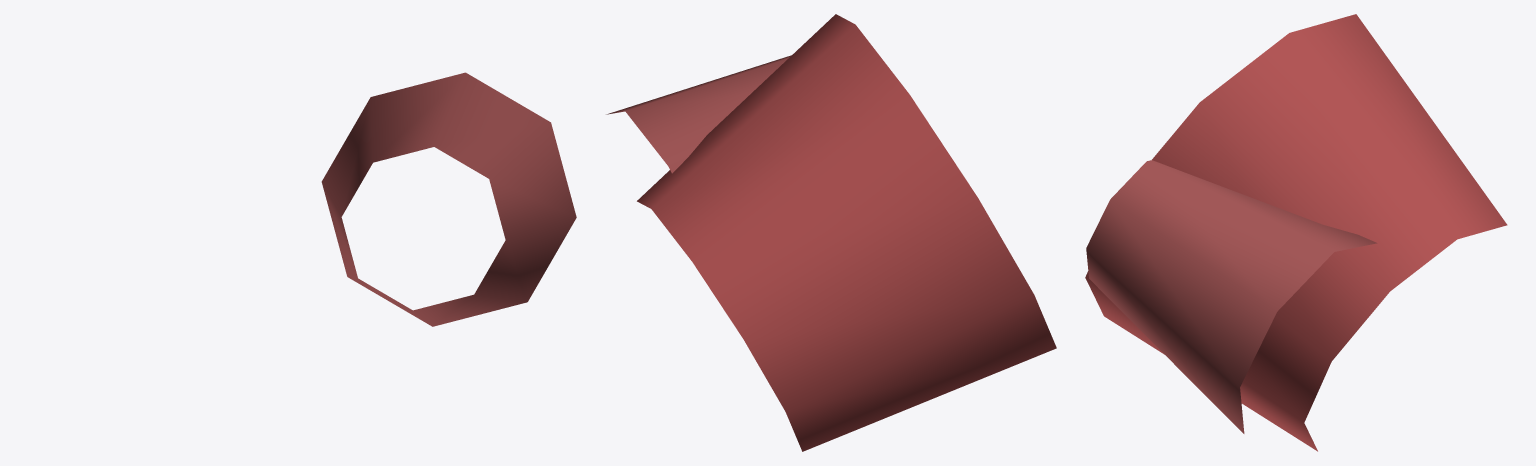
File: channel-buoy-wreck.glb
The picture shows the model from 3 angles, left to right: view 1: azimuth 30°, elevation 25°; view 2: azimuth 150°, elevation 25°; view 3: azimuth 270°, elevation 25°; orthographic projection. The views are drawn at different scales.
Visible parts, largest first — view 1: Root; view 2: Root; view 3: Root.
Boxes of the visible parts, box(x1,y1,x2,y2) form: Root: box(321, 72, 576, 326); Root: box(606, 14, 1056, 451); Root: box(1085, 14, 1507, 451).
Size of the model in its own units: 3.18 by 2.59 by 2.62.
